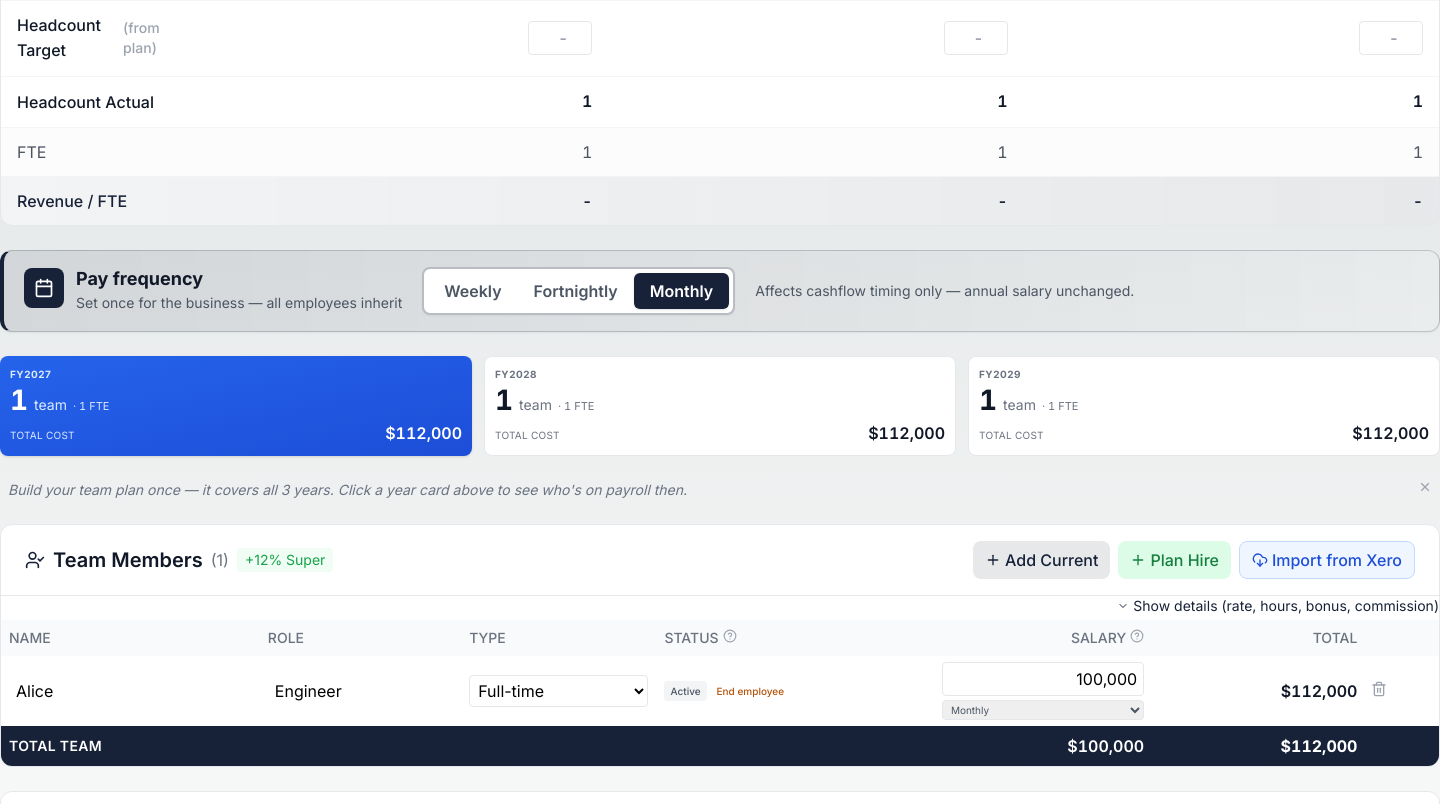
Scenario: Phase 55-01 — UX-S4-04: Step 4 year-card filter › "Show all years" link in the pill clears the selection
(page scrolled)
Click the button with test id "year-card-3".
click(1020, 404)  # box 968,356 -> 1439,456
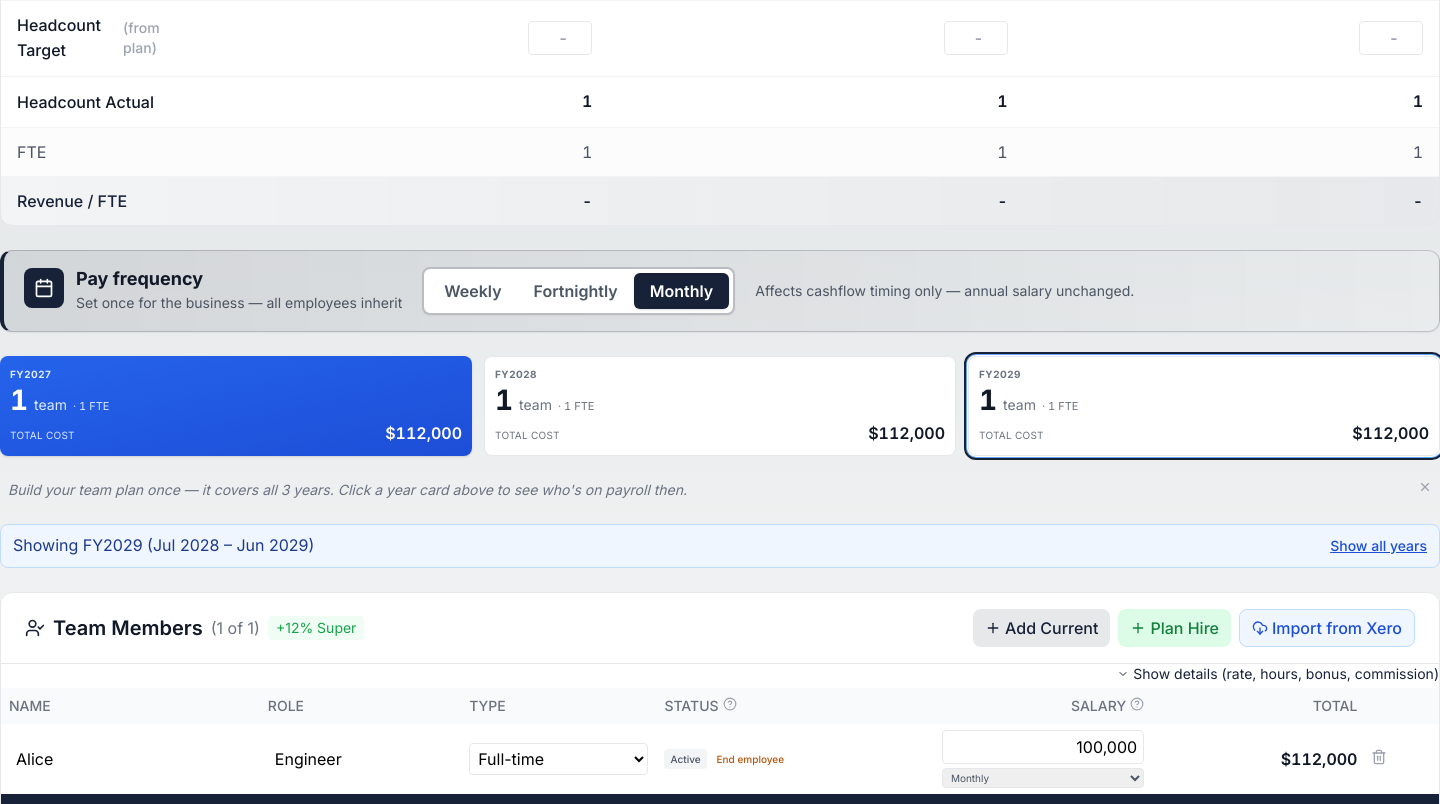
Click the button "Show all years".
click(1379, 546)  # box 1330,536 -> 1427,556
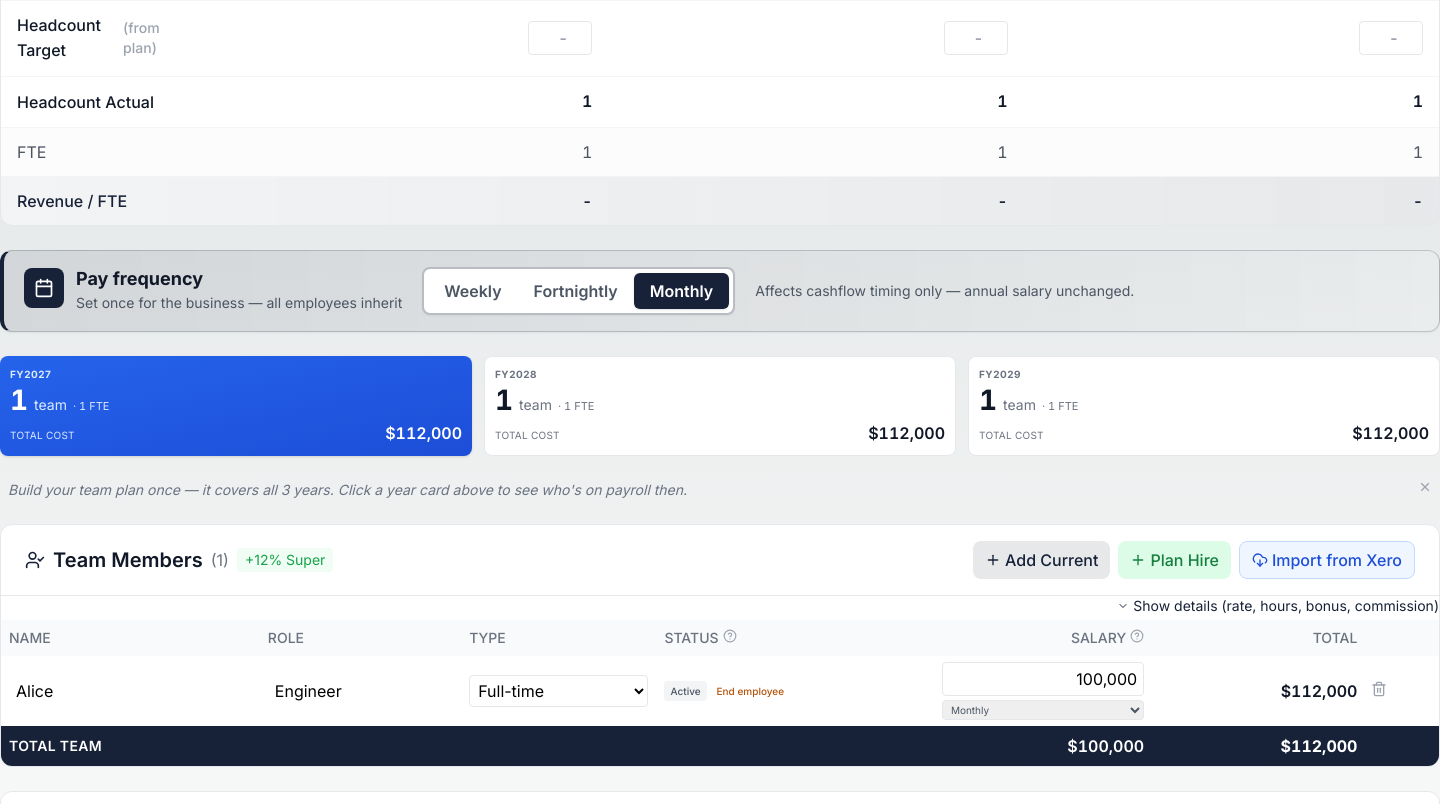
expect the element with test id "year-filter-pill" is gone: met
